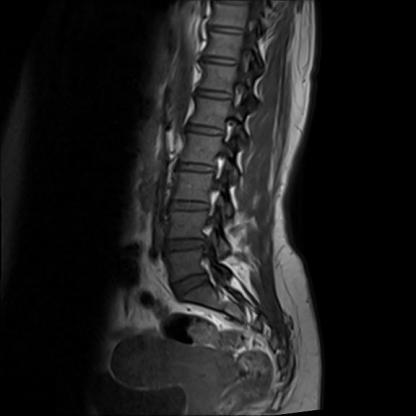Degenerative Disc Diseaserotation: (164, 236, 208, 256)
Disc Herniationrotation: (164, 236, 208, 256)
